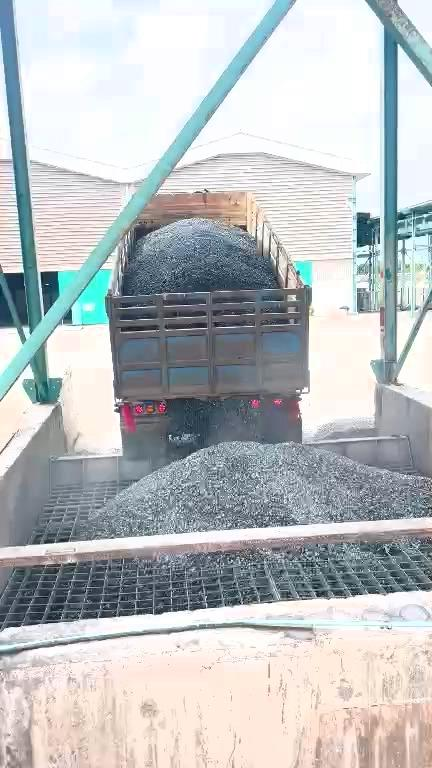gravel: (84, 443, 432, 537), (124, 218, 278, 295), (179, 544, 386, 567), (309, 416, 377, 440)
